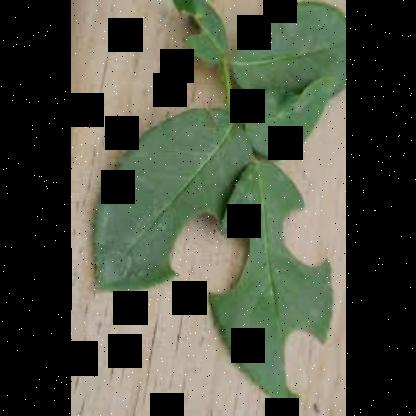agujero: (162, 210, 224, 276), (278, 199, 329, 275), (283, 328, 329, 404), (211, 224, 253, 306), (179, 9, 209, 36)
